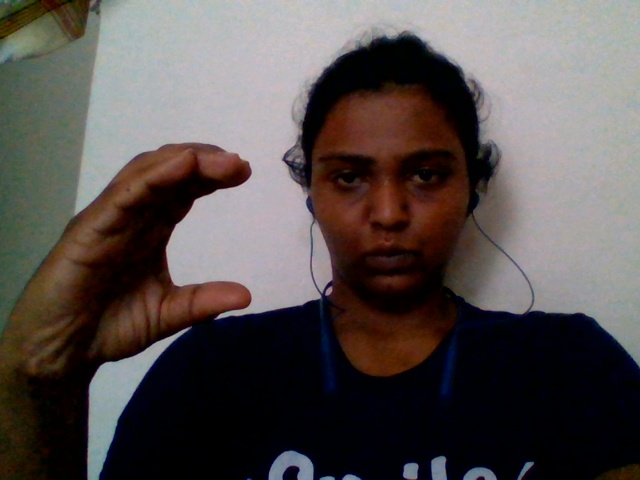No: (1, 107, 272, 360)
